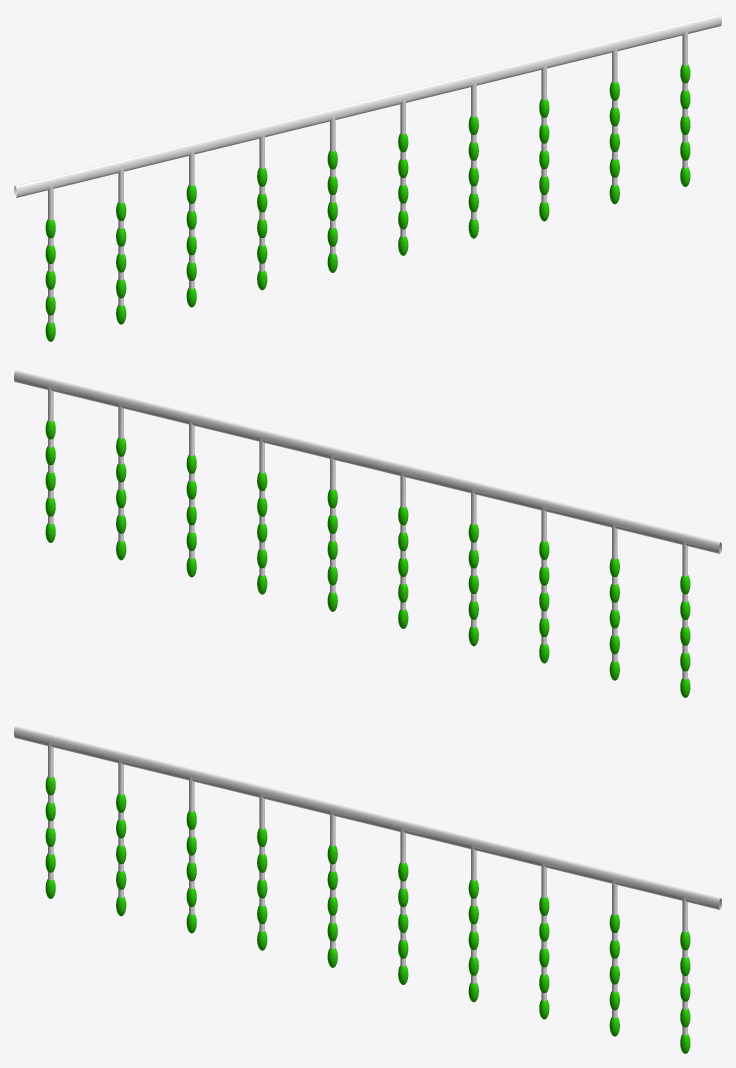
File: Elec_lights.fbx
3 views of the same model, one above another, from view 1: azimuth 30°, elevation 25°; view 2: azimuth 150°, elevation 25°; view 3: azimuth 330°, elevation 25° (orthographic).
Parts seen in each view (by area): view 1: Sphere; view 2: Sphere; view 3: Sphere.
Part boxes in pixels (<box>): Sphere: <box>14,14,721,341</box>; Sphere: <box>14,370,721,697</box>; Sphere: <box>14,726,721,1053</box>.
Size of the model in its own units: 14289 by 3178 by 180.
